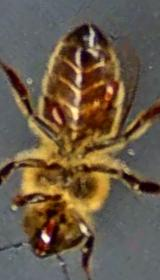varroa_mite: (36, 94, 70, 136), (94, 76, 124, 108)
